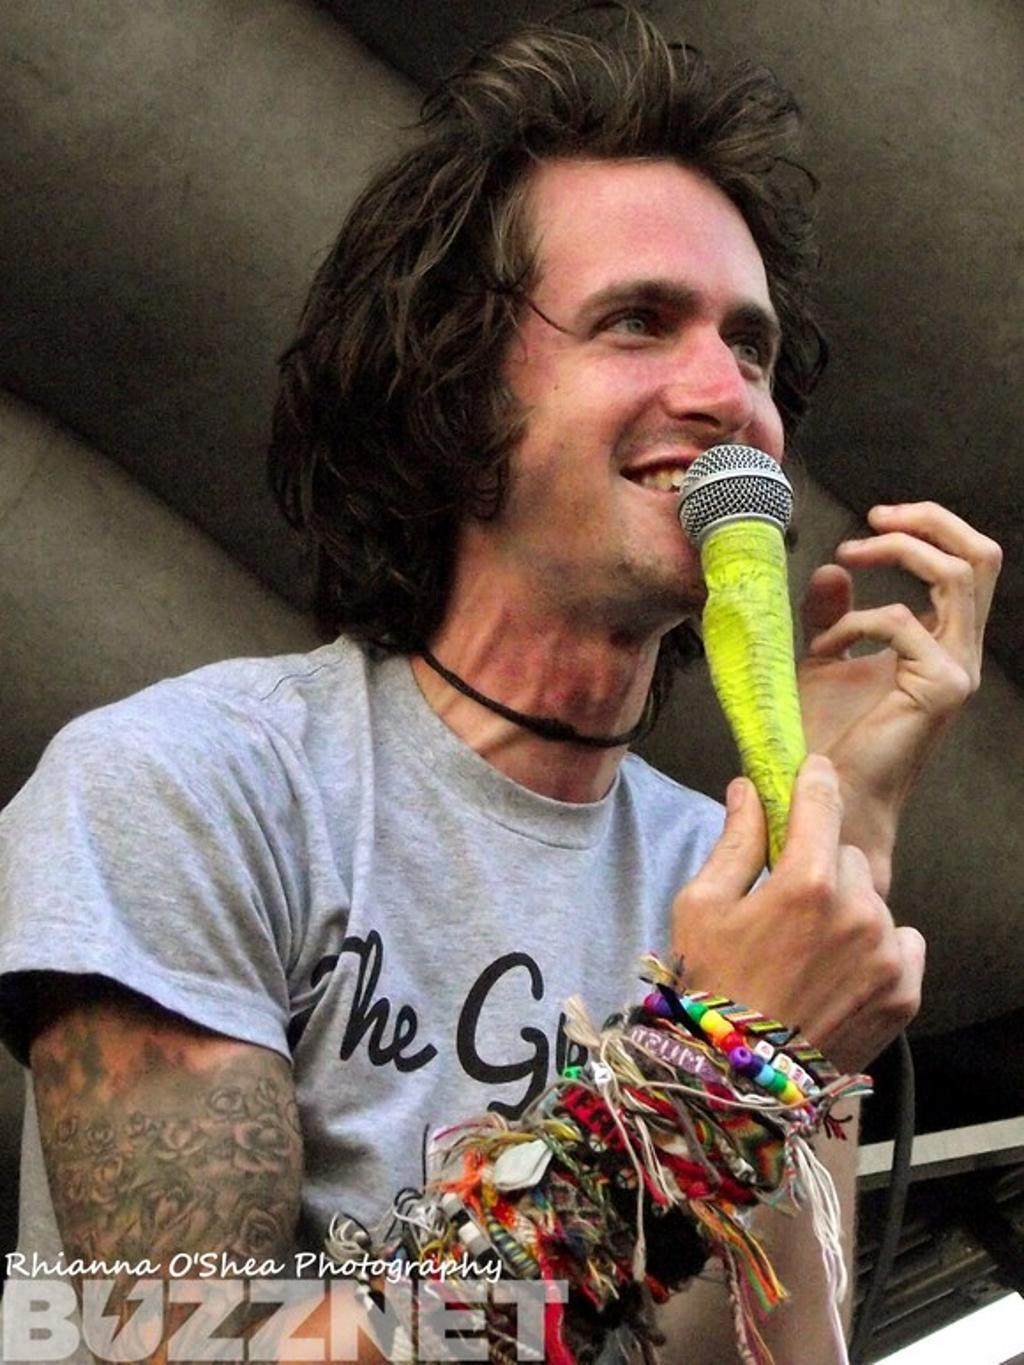face: (502, 161, 787, 604)
